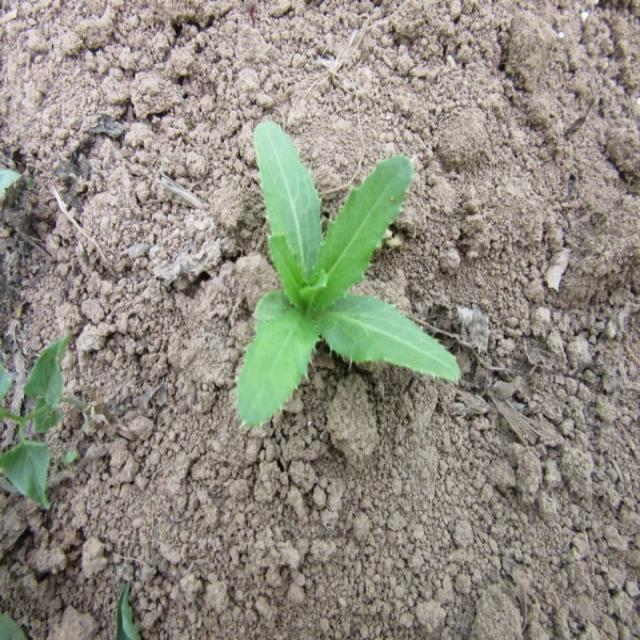field_thistle: (223, 108, 462, 429)
